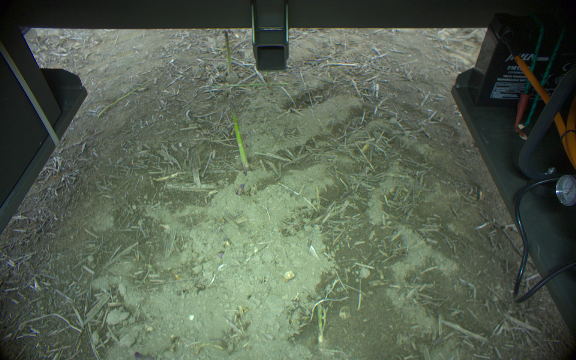aspa: (225, 100, 252, 178), (222, 28, 235, 79), (314, 300, 327, 346)
